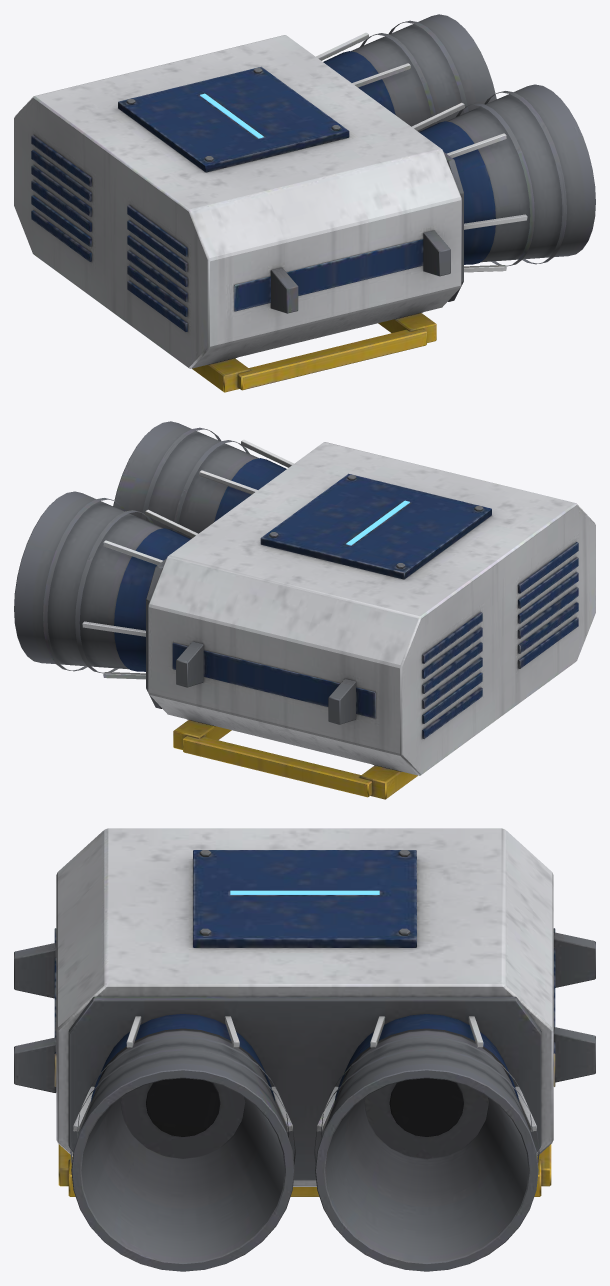
The model's file is 整備庫_30_雙推進器艙.glb.
The picture shows the model from 3 angles, top to bottom: view 1: azimuth 30°, elevation 25°; view 2: azimuth 150°, elevation 25°; view 3: azimuth 270°, elevation 25°; orthographic projection. The views are drawn at different scales.
Parts seen in each view (by area): view 1: Pod_Mesh; view 2: Pod_Mesh; view 3: Pod_Mesh.
Part boxes in pixels (x1,y1,x2,y2): Pod_Mesh: (14,14,595,392); Pod_Mesh: (14,421,595,799); Pod_Mesh: (14,828,595,1271).
Bounding box in the file's own units: 4.68 × 2.11 × 4.68.
Materials: 2 (1 with a texture image).
